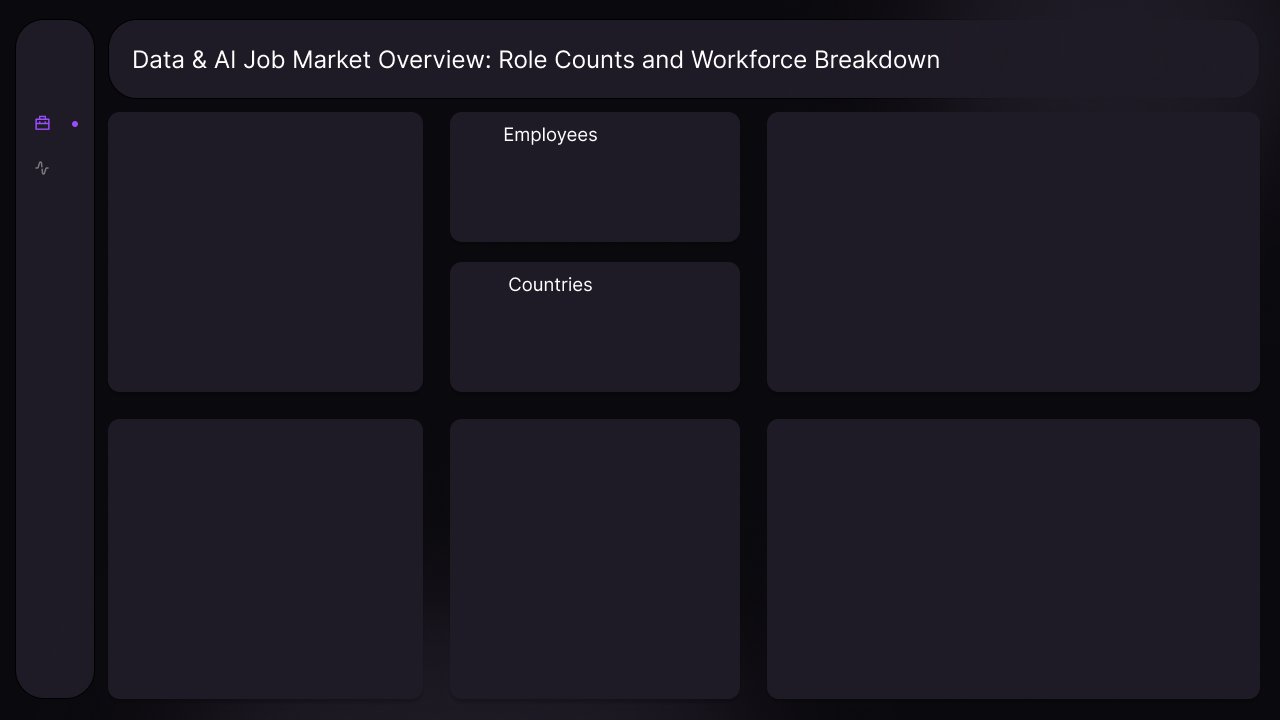

This screenshot's page, from the dashboard's own definition file:
{"tool":"powerbi","page":{"name":"Overview","canvas":[1280,720],"ordinal":0},"visuals":[{"type":"card","fields":{"Values":["salaries_cleaned.total_records"]},"box":[451.7,108.3,286.7,128.3],"z":0},{"type":"card","fields":{"Values":["salaries_cleaned.distinct_countries"]},"box":[451.7,260,286.7,125],"z":1000},{"type":"donutChart","title":"Employees Count by Experience","fields":{"Y":["salaries_cleaned.distinct_experience_lvl"],"Category":["salaries_cleaned.experience_level"]},"box":[113.3,111.7,316.7,278.3],"z":2000},{"type":"donutChart","title":"Employee Count by Work Mode","fields":{"Category":["salaries_cleaned.remote_type"],"Y":["salaries_cleaned.distinct_employees_count"]},"box":[113.3,418.3,316.7,276.7],"z":3000},{"type":"clusteredColumnChart","title":"Employees Count by Company Size","fields":{"Category":["salaries_cleaned.company_size"],"Y":["salaries_cleaned.distinct_employees_count"]},"box":[451.7,418.3,286.7,276.7],"z":4000},{"type":"clusteredColumnChart","title":"Employees Count by Job Title","fields":{"Category":["salaries_cleaned.job_title"],"Y":["salaries_cleaned.distinct_employees_count"]},"box":[770,418.6,495.7,277.1],"z":5000},{"type":"filledMap","title":"Employees'' Residence","fields":{"Category":["salaries_cleaned.employee_residence"]},"box":[765,108.3,496.7,276.7],"z":6000},{"type":"image","box":[450,111.4,51.4,41.4],"z":7000},{"type":"image","box":[450,260,58.9,45.6],"z":8000},{"type":"actionButton","box":[15,152.5,79.2,27.5],"z":9000}]}

Visuals, with their boxes on the page's 1280x720 design canvas (x1, y1, x2, y2). These are canvas units, not pixel positions in the 1280x720 screenshot, which may show the page scaled, cropped or inside an application window:
card - salaries_cleaned.total_records: {"left": 452, "top": 108, "right": 738, "bottom": 237}
card - salaries_cleaned.distinct_countries: {"left": 452, "top": 260, "right": 738, "bottom": 385}
"Employees Count by Experience" donutChart: {"left": 113, "top": 112, "right": 430, "bottom": 390}
"Employee Count by Work Mode" donutChart: {"left": 113, "top": 418, "right": 430, "bottom": 695}
"Employees Count by Company Size" clusteredColumnChart: {"left": 452, "top": 418, "right": 738, "bottom": 695}
"Employees Count by Job Title" clusteredColumnChart: {"left": 770, "top": 419, "right": 1266, "bottom": 696}
"Employees'' Residence" filledMap: {"left": 765, "top": 108, "right": 1262, "bottom": 385}
image: {"left": 450, "top": 111, "right": 501, "bottom": 153}
image: {"left": 450, "top": 260, "right": 509, "bottom": 306}
actionButton: {"left": 15, "top": 152, "right": 94, "bottom": 180}
